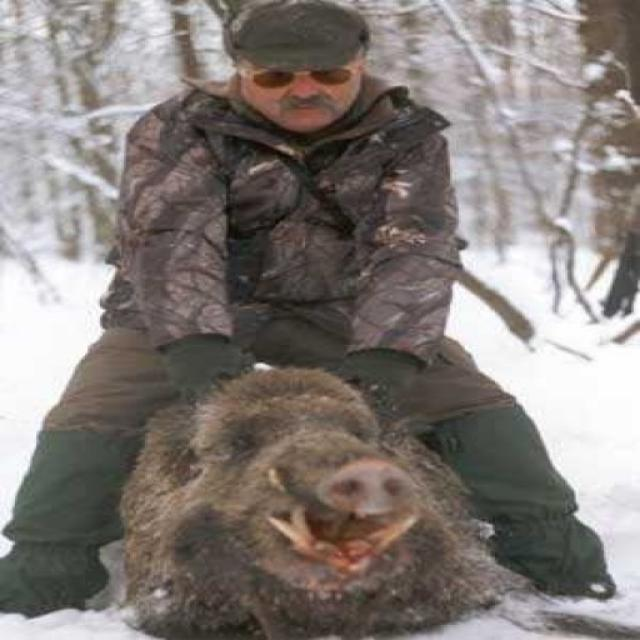pig: (110, 288, 550, 640)
